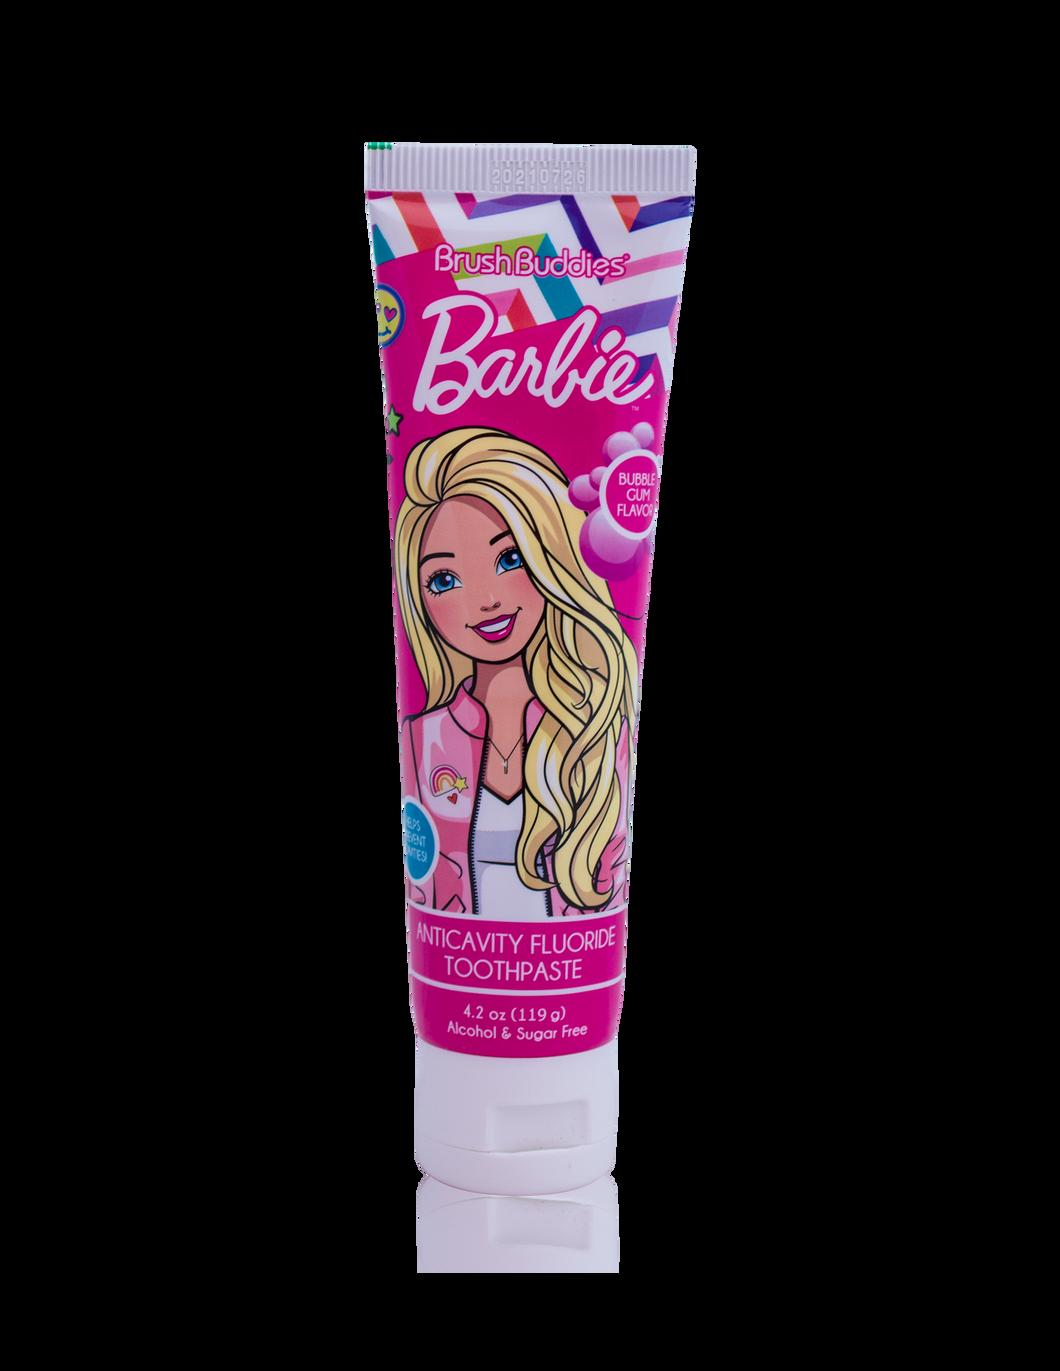toothpaste: (323, 105, 714, 1195)
